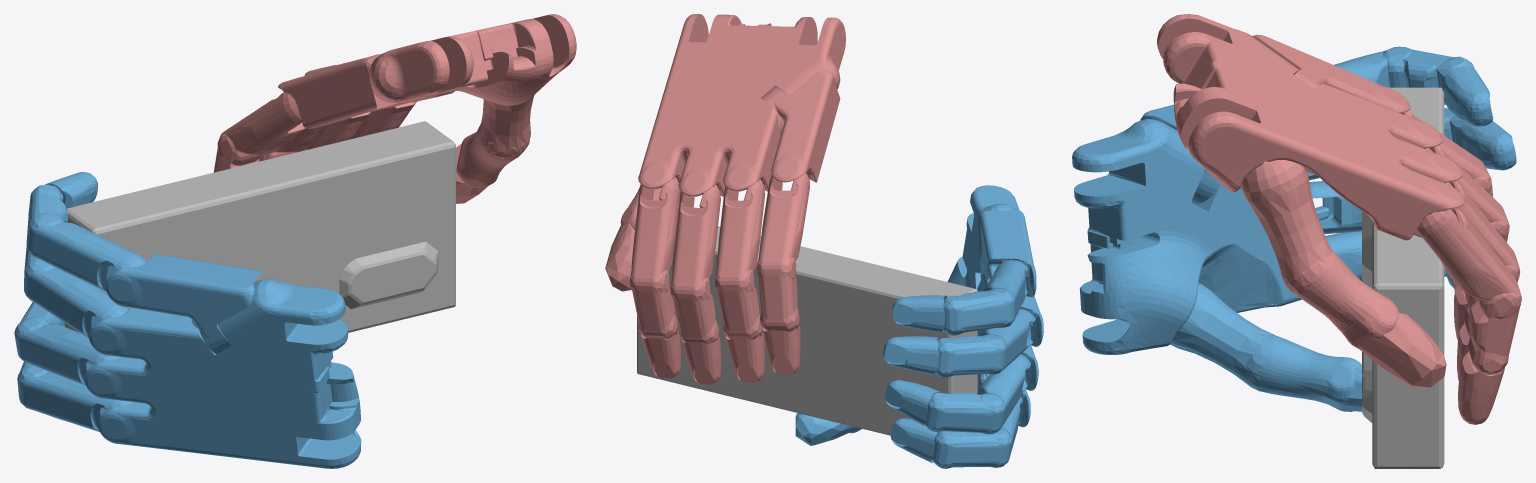
File: VideoGameController_mesh.glb
3 renders of one model, left to right at view 1: azimuth 30°, elevation 25°; view 2: azimuth 150°, elevation 25°; view 3: azimuth 270°, elevation 25°, orthographic. The views are drawn at different scales.
Parts seen in each view (by area): view 1: geom_1, geom_0, geom_2; view 2: geom_2, geom_1, geom_0; view 3: geom_2, geom_1, geom_0.
Boxes of the visible parts, x1=… form: geom_1: x1=14, y1=172, x2=361, y2=468; geom_0: x1=64, y1=121, x2=455, y2=332; geom_2: x1=213, y1=14, x2=576, y2=203; geom_2: x1=605, y1=14, x2=845, y2=384; geom_1: x1=795, y1=185, x2=1043, y2=468; geom_0: x1=637, y1=216, x2=977, y2=435; geom_2: x1=1157, y1=14, x2=1521, y2=424; geom_1: x1=1072, y1=46, x2=1516, y2=411; geom_0: x1=1362, y1=87, x2=1444, y2=468.
Bounding box in the file's own units: 0.2262 × 0.1857 × 0.1695.
